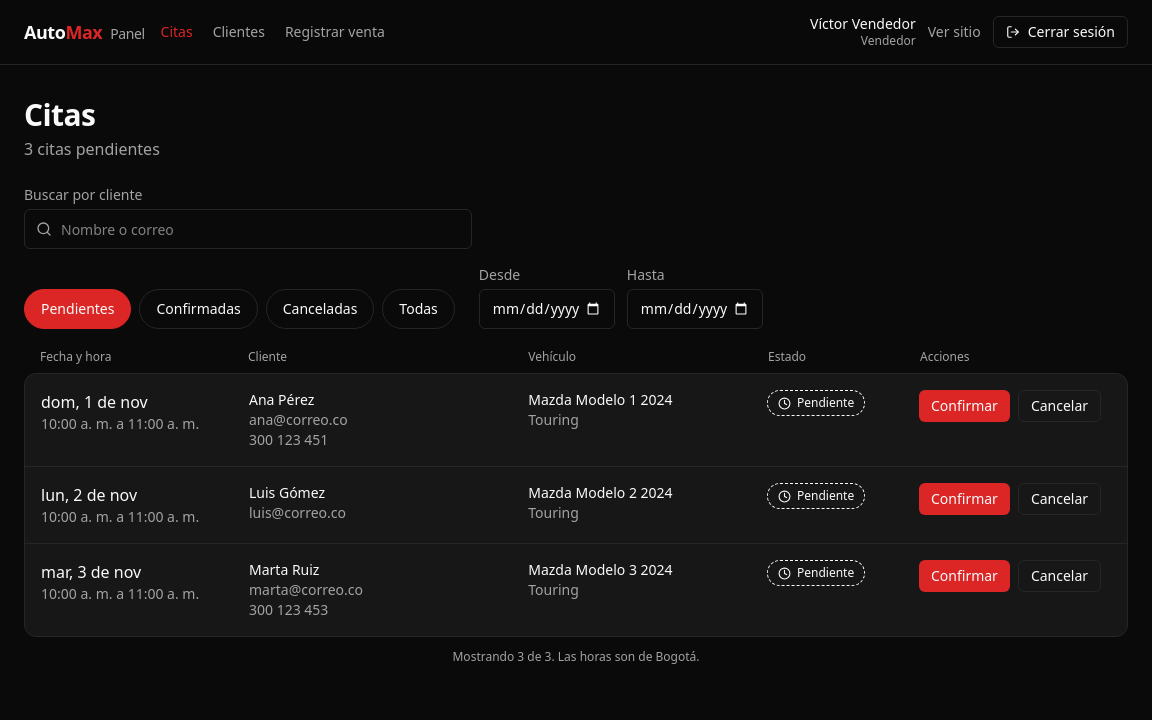
Test: lista de citas › búsqueda por cliente › espera a que se deje de escribir y pide el texto al servidor (nunca filtra en el navegador)
The image size is (1152, 720).
Check: the list named "Citas" is shown, box [24,373,1128,637]
Type "marta" into the search field labelled "Buscar por cliente". click: [248, 229]
box: [24,209,472,249]
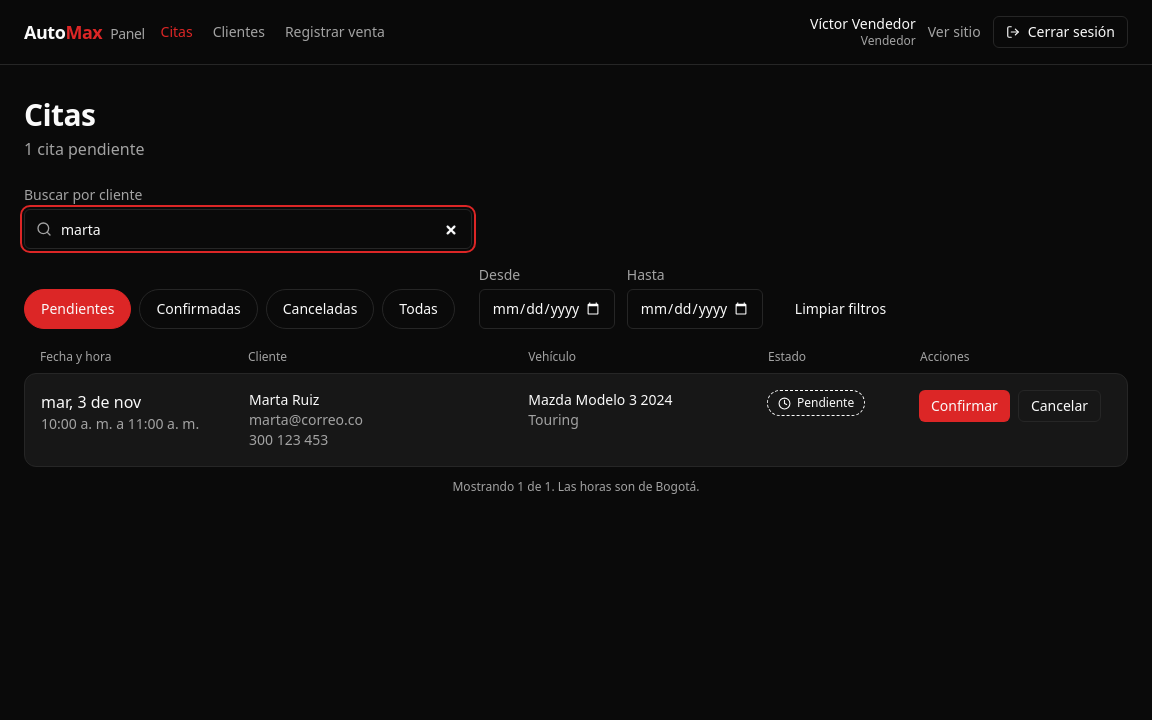
Check: the text "1 cita pendiente" is shown, box [24,138,144,160]
